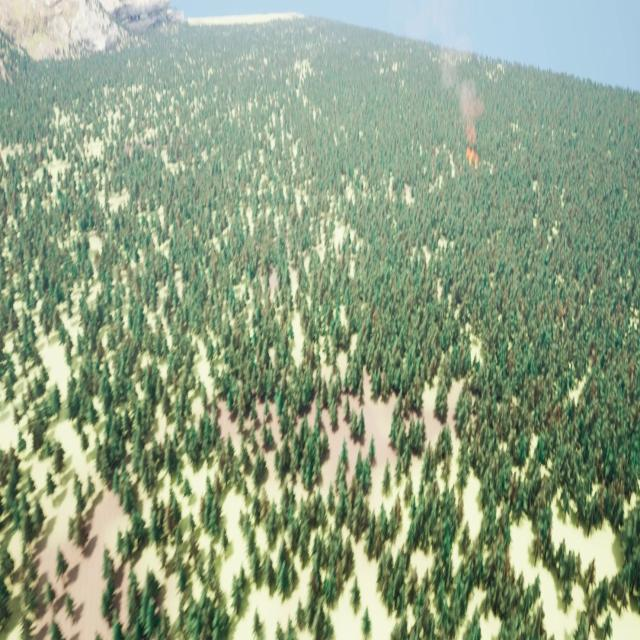fire: (468, 134, 479, 163)
smoke: (416, 9, 484, 135)
